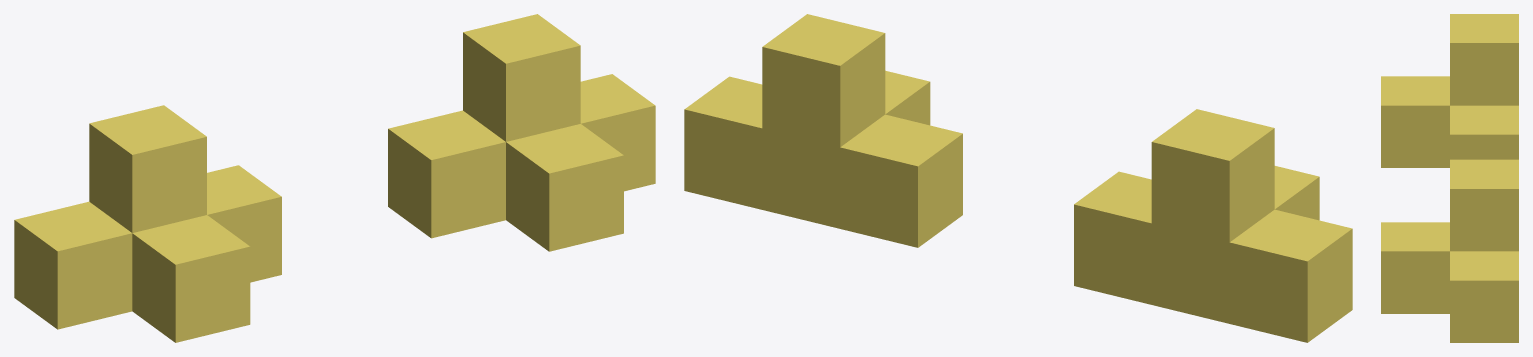
Rendered from toriasi.fbx.
3 renders of one model, left to right at view 1: azimuth 30°, elevation 25°; view 2: azimuth 150°, elevation 25°; view 3: azimuth 270°, elevation 25°, orthographic. The views are drawn at different scales.
Parts seen in each view (by area): view 1: 立方体.074; view 2: 立方体.074; view 3: 立方体.074.
Part boxes in pixels (x1,y1,x2,y2): 立方体.074: (14, 14, 655, 342); 立方体.074: (684, 14, 1352, 342); 立方体.074: (1381, 14, 1518, 342).
Size of the model in its own units: 16 by 4 by 4.
